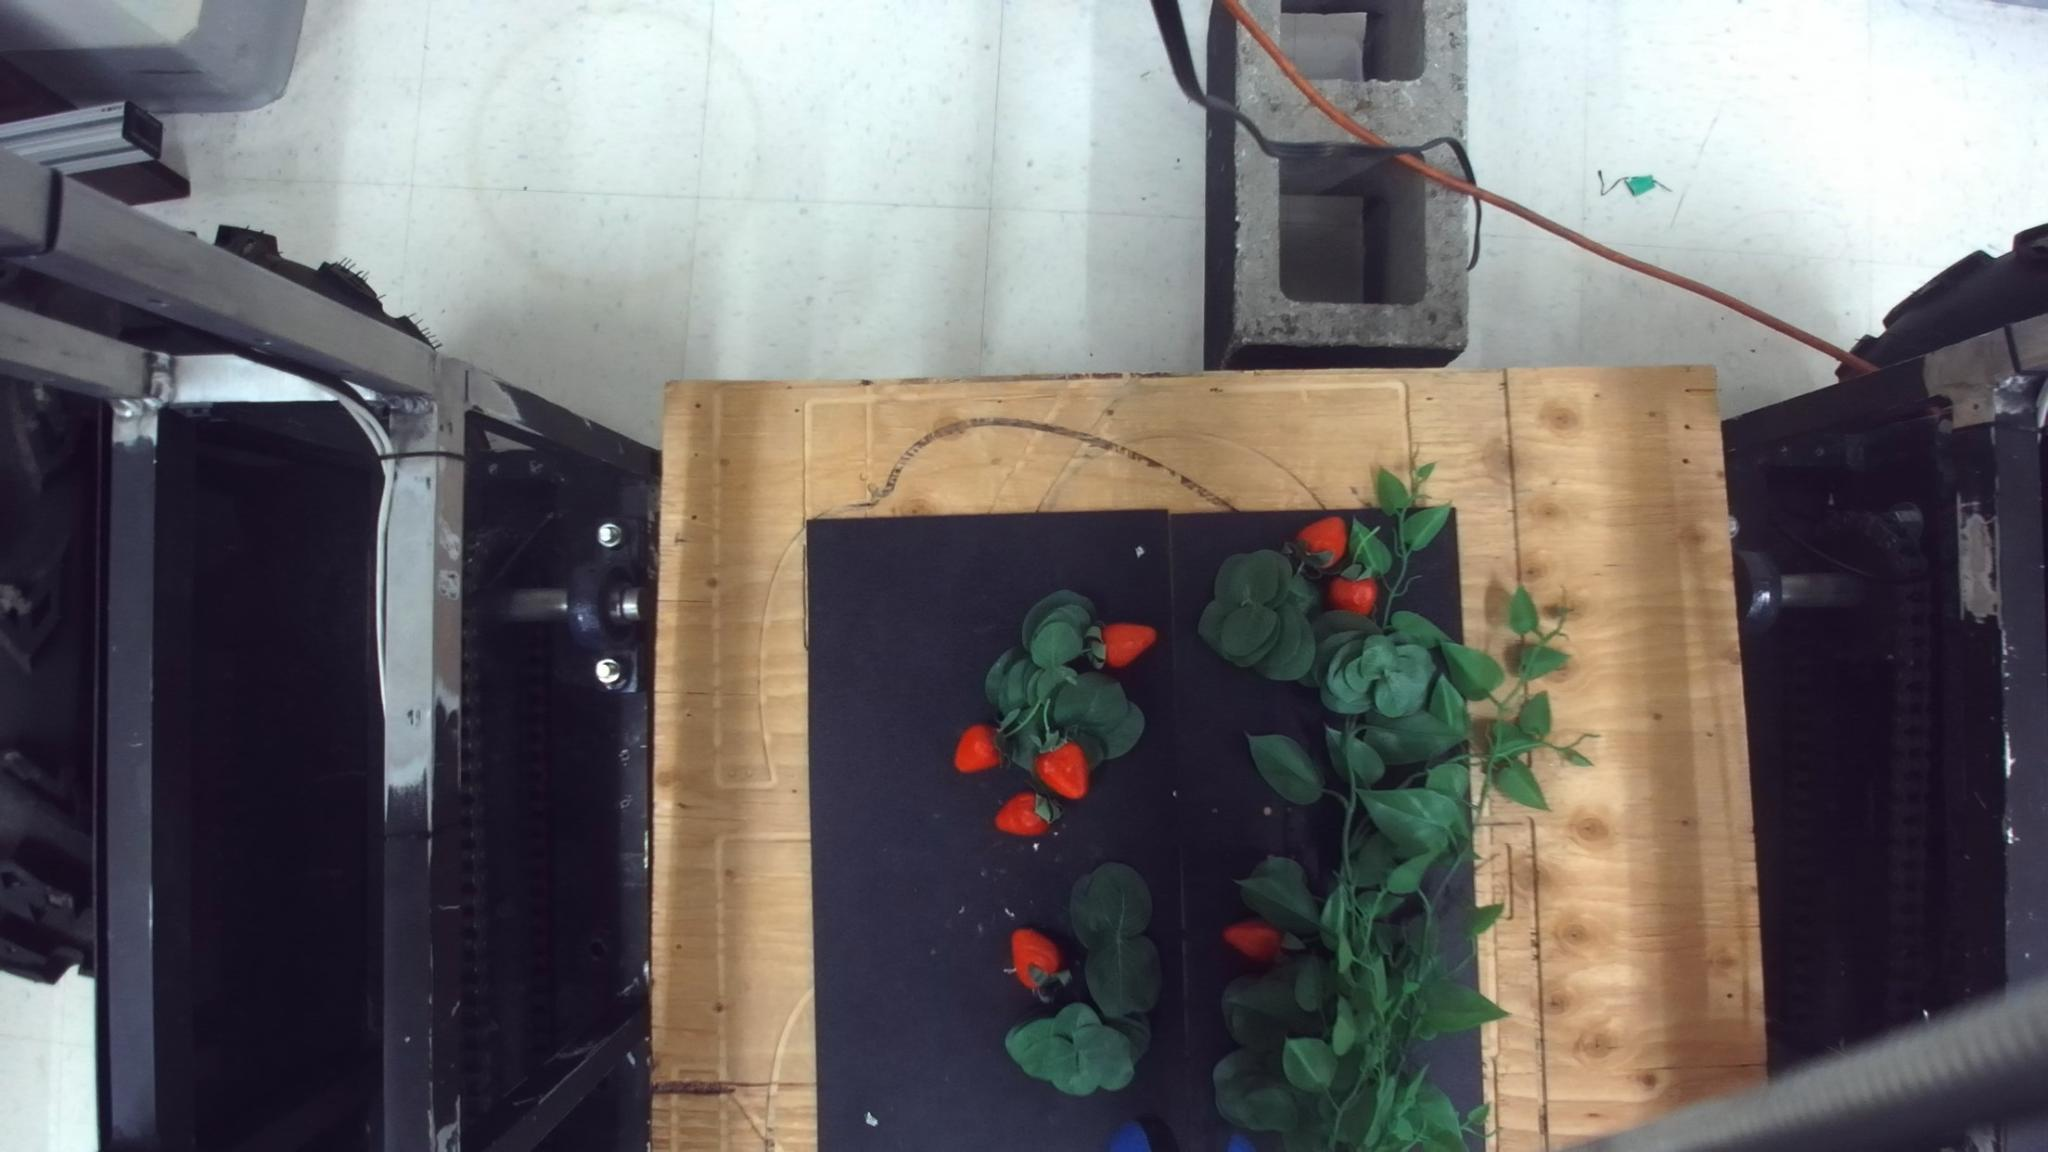strawberry: (1007, 926, 1070, 1000), (1288, 515, 1348, 575), (1032, 737, 1090, 799), (993, 791, 1061, 836), (1096, 620, 1156, 670), (1221, 919, 1284, 964), (952, 723, 1003, 774), (1325, 572, 1378, 617)
